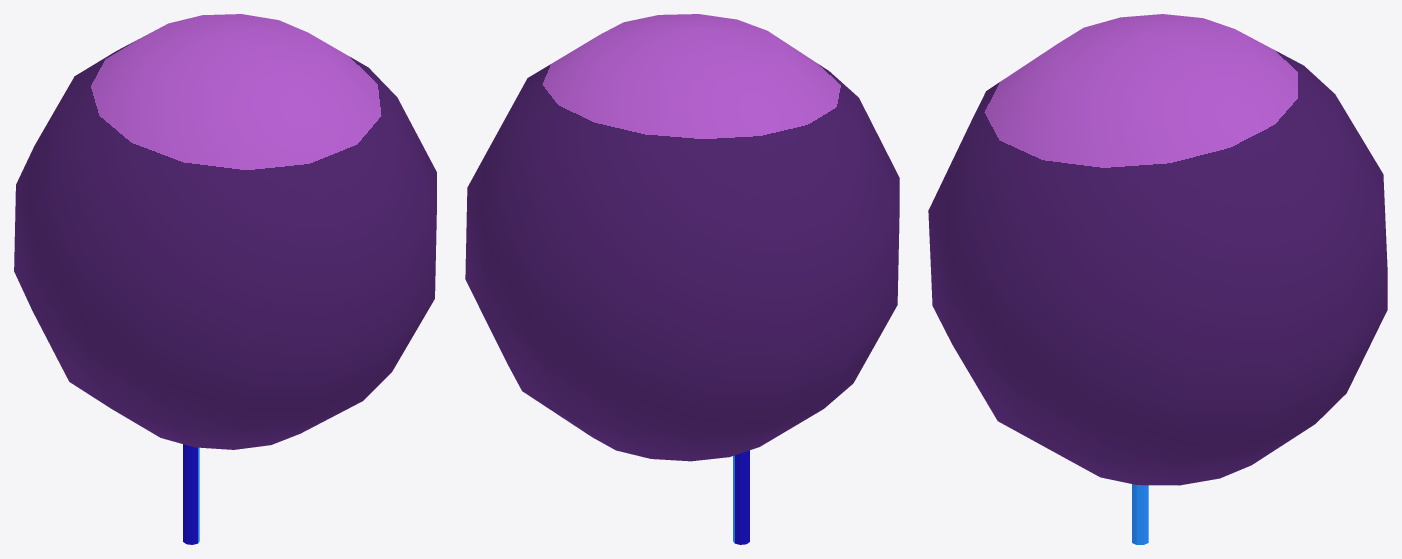
Rendered from elearning.glb.
3 views of the same model, side by side, from view 1: azimuth 30°, elevation 25°; view 2: azimuth 150°, elevation 25°; view 3: azimuth 270°, elevation 25° (orthographic). The views are drawn at different scales.
Visible parts, largest first — view 1: Sphere, floor1.002; view 2: Sphere, floor1.002; view 3: Sphere, floor1.002.
Boxes of the visible parts, bbox=[...] form: Sphere: bbox=[14, 14, 436, 449]; floor1.002: bbox=[183, 444, 199, 544]; Sphere: bbox=[465, 14, 899, 461]; floor1.002: bbox=[733, 450, 749, 544]; Sphere: bbox=[928, 14, 1387, 485]; floor1.002: bbox=[1132, 484, 1148, 544].
Size of the model in its own units: 225 by 287 by 226.
Materials: 2 (1 with a texture image).
